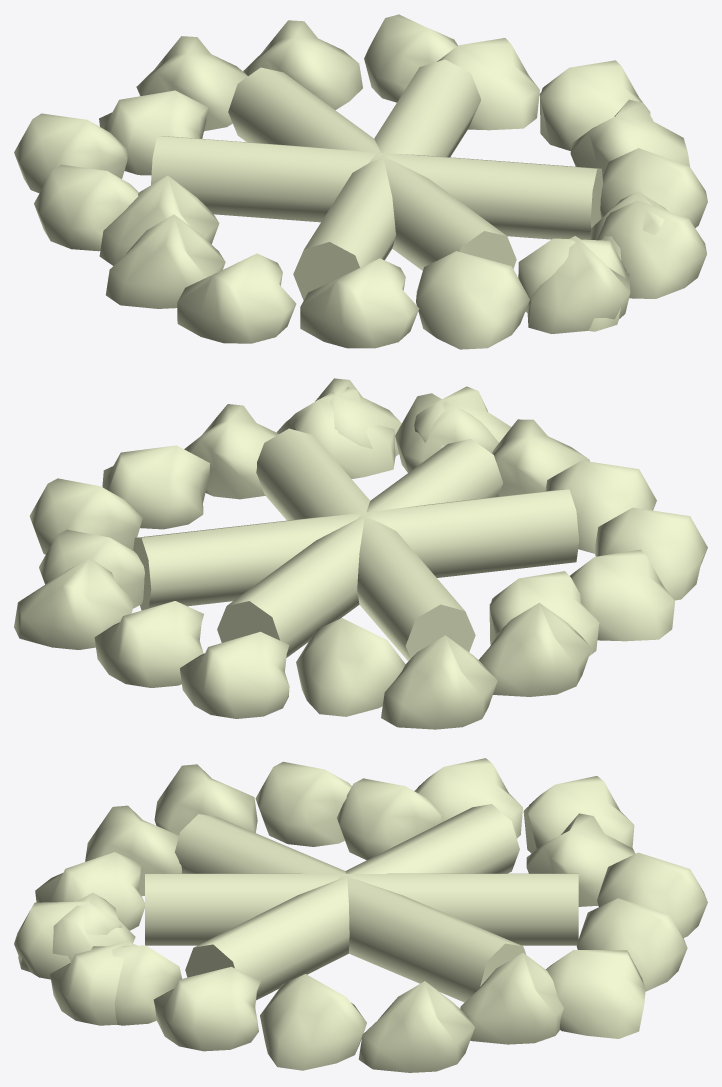
Rendered from fogata.glb.
The picture shows the model from 3 angles, top to bottom: view 1: azimuth 30°, elevation 25°; view 2: azimuth 150°, elevation 25°; view 3: azimuth 270°, elevation 25°; orthographic projection. The views are drawn at different scales.
Parts seen in each view (by area): view 1: Cylinder001; view 2: Cylinder001; view 3: Cylinder001.
Part boxes in pixels (x1,y1,x2,y2): Cylinder001: [14, 14, 707, 349]; Cylinder001: [14, 378, 707, 729]; Cylinder001: [14, 758, 707, 1072].
Bounding box in the file's own units: 0.2954 × 0.0366 × 0.3164.
